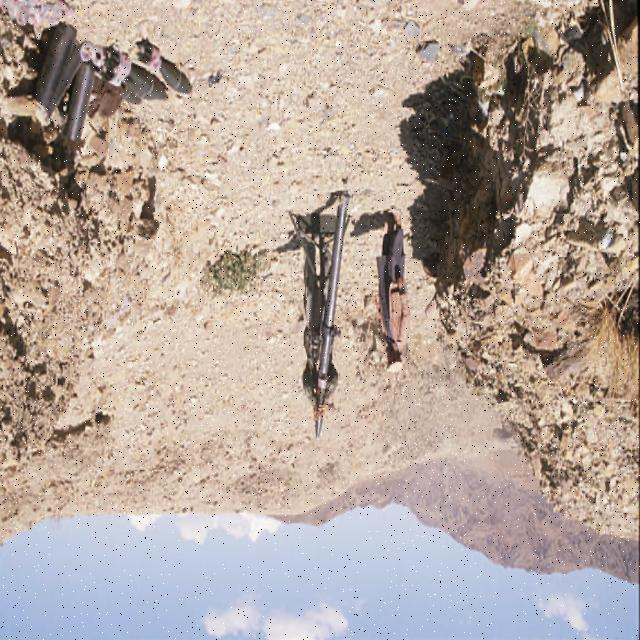bazooka: (311, 170, 362, 445)
